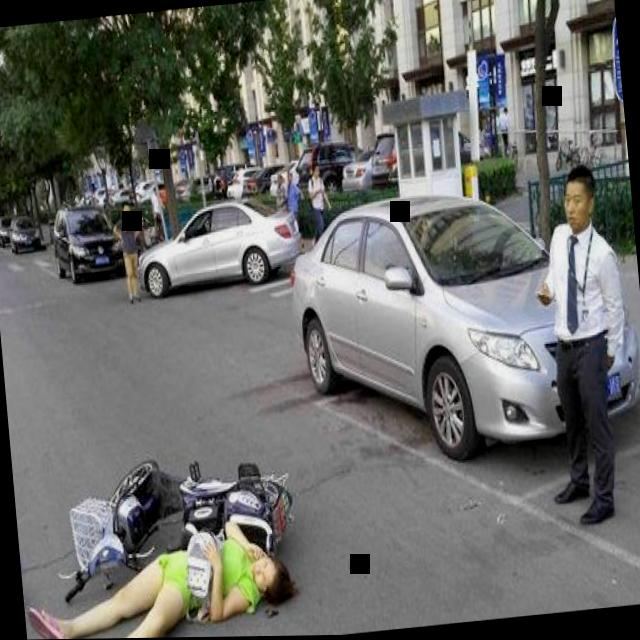Fall-Detected: (21, 504, 311, 640)
